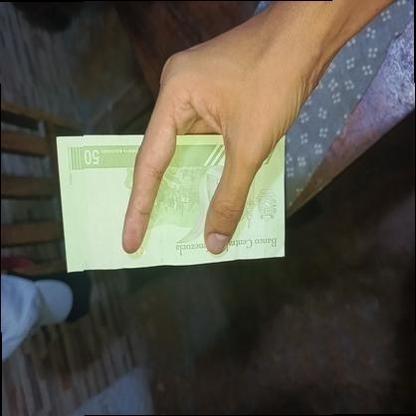fifty-back-vef: (56, 133, 285, 274)
